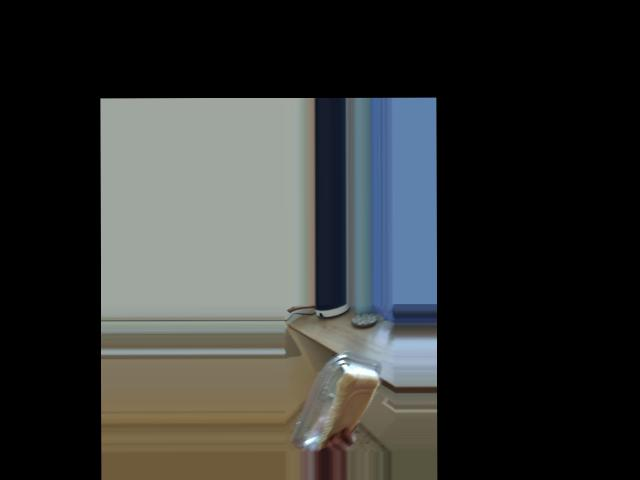cheese: (306, 361, 369, 416)
